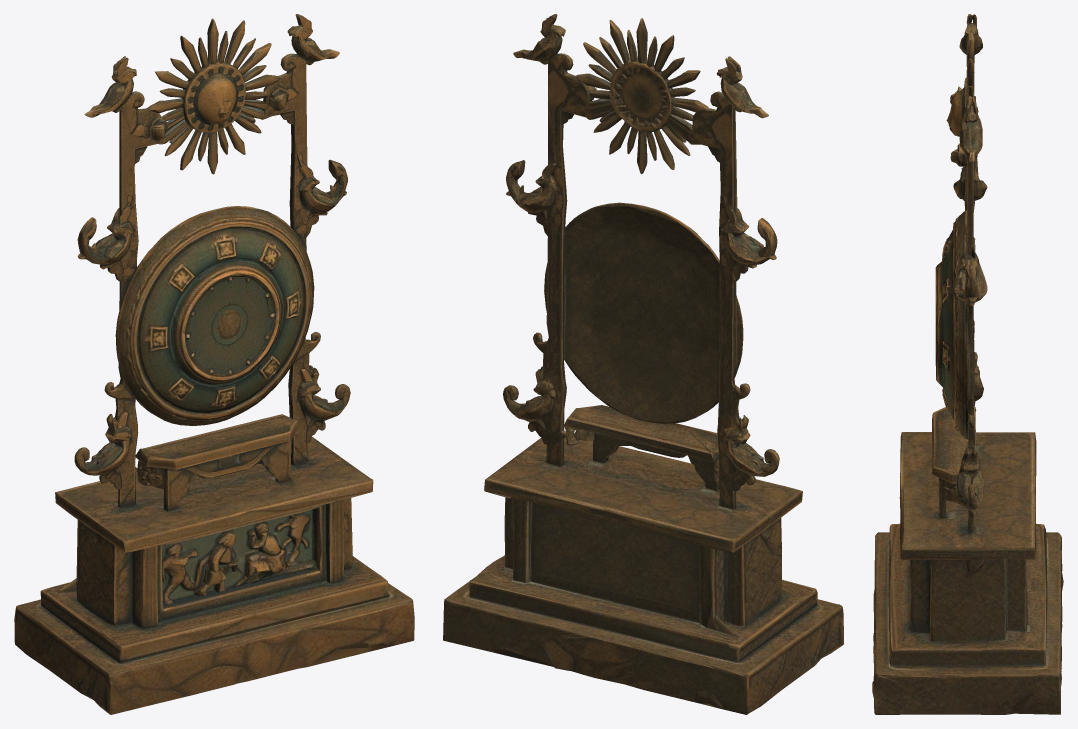
File: dongSonDrum.glb
3 renders of one model, left to right at view 1: azimuth 30°, elevation 25°; view 2: azimuth 150°, elevation 25°; view 3: azimuth 270°, elevation 25°, orthographic. The views are drawn at different scales.
Visible parts, largest first — view 1: mesh_node; view 2: mesh_node; view 3: mesh_node.
Part boxes in pixels (bbox=[...]): mesh_node: bbox=[14, 14, 414, 714]; mesh_node: bbox=[443, 14, 843, 714]; mesh_node: bbox=[872, 14, 1063, 714].
Bounding box in the file's own units: 0.9787 × 1.9 × 0.545.
Materials: 1 (1 with a texture image).
